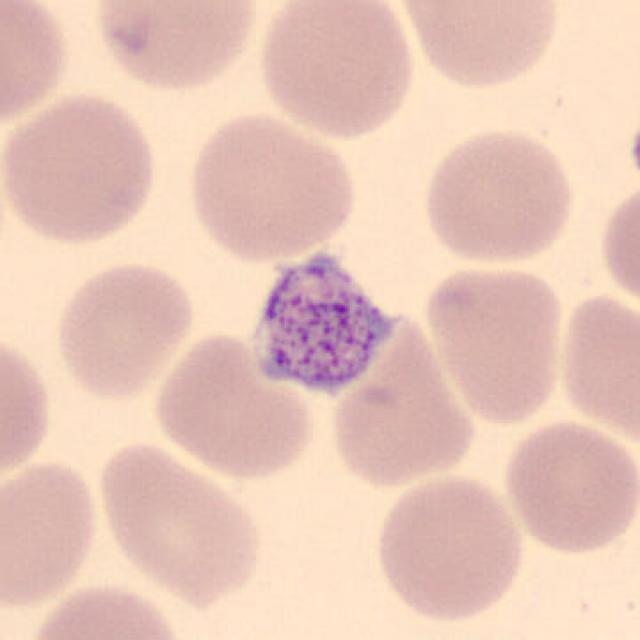Platelets: (240, 243, 407, 411)
RBC: (92, 436, 266, 608), (324, 308, 480, 494), (181, 108, 361, 264), (0, 88, 164, 249), (148, 328, 318, 483), (370, 469, 530, 626), (420, 259, 567, 429), (252, 0, 420, 143), (418, 123, 580, 268), (50, 257, 199, 402), (498, 416, 638, 559), (87, 0, 265, 95), (0, 453, 103, 614), (395, 0, 565, 92), (553, 287, 638, 446), (21, 578, 194, 640), (0, 0, 76, 137), (0, 326, 55, 490), (596, 176, 638, 314), (626, 101, 640, 199)
